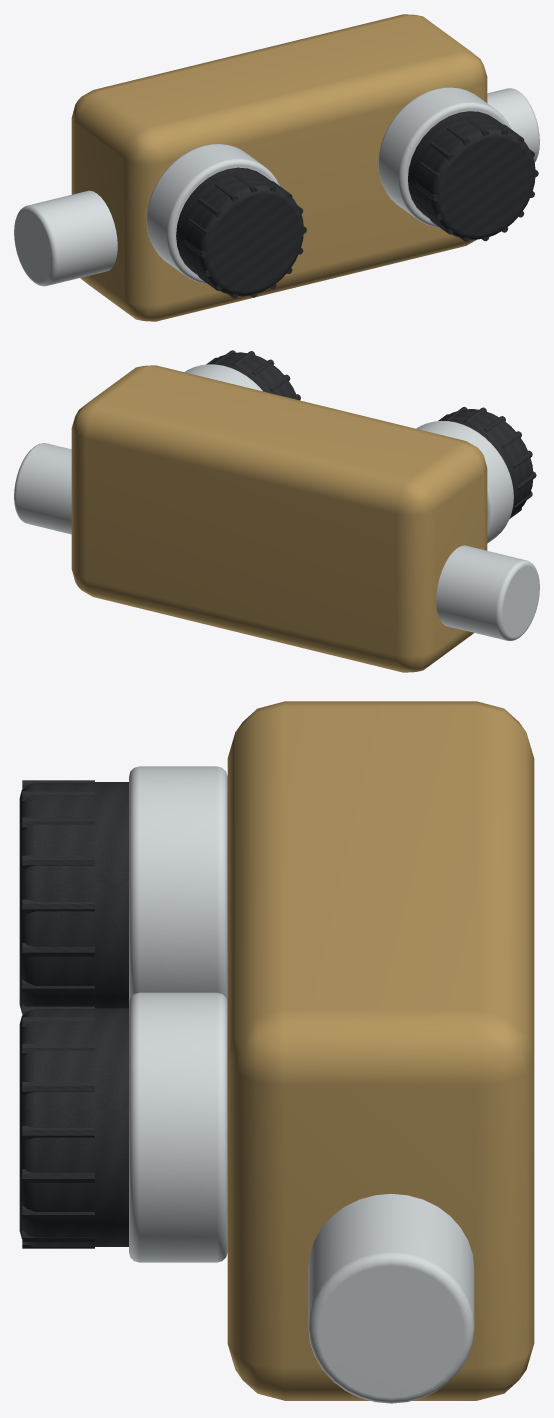
File: SL17B_SideBlockControls_v1.glb
3 views of the same model, one above another, from view 1: azimuth 30°, elevation 25°; view 2: azimuth 150°, elevation 25°; view 3: azimuth 270°, elevation 25° (orthographic). The views are drawn at different scales.
Parts seen in each view (by area): view 1: SideBlock_505-024_OuterBody_ESTIMATED, Control_2_Knob_POLYURETHANE_ESTIMATED, Control_1_Knob_POLYURETHANE_ESTIMATED, Connector_L_ExternalStub_ESTIMATED, Control_2_Base_ESTIMATED, Control_1_Base_ESTIMATED, Connector_R_ExternalStub_ESTIMATED; view 2: SideBlock_505-024_OuterBody_ESTIMATED, Connector_L_ExternalStub_ESTIMATED, Connector_R_ExternalStub_ESTIMATED, Control_1_Base_ESTIMATED, Control_1_Knob_POLYURETHANE_ESTIMATED, Control_2_Knob_POLYURETHANE_ESTIMATED, Control_2_Base_ESTIMATED; view 3: SideBlock_505-024_OuterBody_ESTIMATED, Connector_R_ExternalStub_ESTIMATED, Control_2_Base_ESTIMATED, Control_1_Base_ESTIMATED, Control_2_Knob_POLYURETHANE_ESTIMATED, Control_1_Knob_POLYURETHANE_ESTIMATED, Control_1_Grip_03_ESTIMATED.
Part boxes in pixels (x1,y1,x2,y2): SideBlock_505-024_OuterBody_ESTIMATED: (71, 14, 487, 321); Control_2_Knob_POLYURETHANE_ESTIMATED: (408, 111, 535, 239); Control_1_Knob_POLYURETHANE_ESTIMATED: (176, 167, 303, 296); Connector_L_ExternalStub_ESTIMATED: (14, 190, 117, 286); Control_2_Base_ESTIMATED: (378, 87, 511, 227); Control_1_Base_ESTIMATED: (146, 144, 279, 283); Connector_R_ExternalStub_ESTIMATED: (487, 88, 539, 162); SideBlock_505-024_OuterBody_ESTIMATED: (71, 365, 487, 672); Connector_L_ExternalStub_ESTIMATED: (436, 545, 539, 640); Connector_R_ExternalStub_ESTIMATED: (14, 443, 71, 534); Control_1_Base_ESTIMATED: (416, 420, 513, 543); Control_1_Knob_POLYURETHANE_ESTIMATED: (440, 409, 533, 515); Control_2_Knob_POLYURETHANE_ESTIMATED: (209, 352, 296, 398); Control_2_Base_ESTIMATED: (184, 364, 262, 391); SideBlock_505-024_OuterBody_ESTIMATED: (227, 701, 534, 1400); Connector_R_ExternalStub_ESTIMATED: (308, 1194, 474, 1403); Control_2_Base_ESTIMATED: (129, 992, 227, 1262); Control_1_Base_ESTIMATED: (129, 766, 227, 1002); Control_2_Knob_POLYURETHANE_ESTIMATED: (19, 1008, 128, 1246); Control_1_Knob_POLYURETHANE_ESTIMATED: (19, 782, 128, 1012); Control_1_Grip_03_ESTIMATED: (22, 855, 94, 869).
Size of the model in its own units: 0.217 by 0.082 by 0.099.
Materials: 3 (1 with a texture image).
